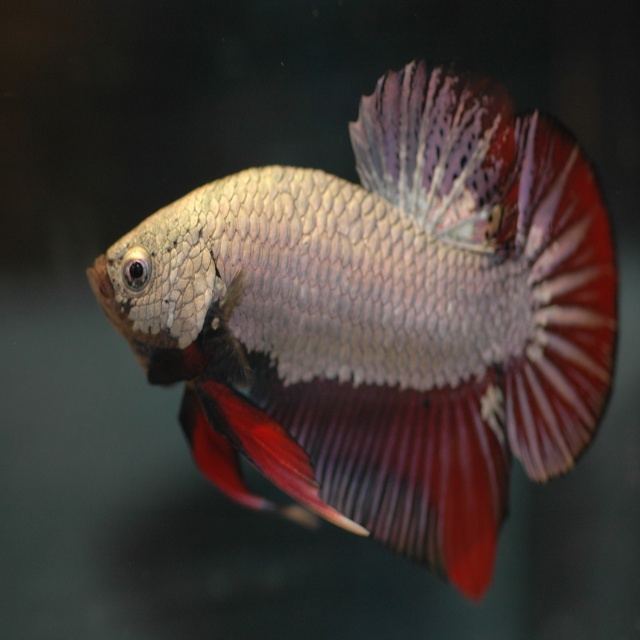Fish: (106, 93, 606, 573)
